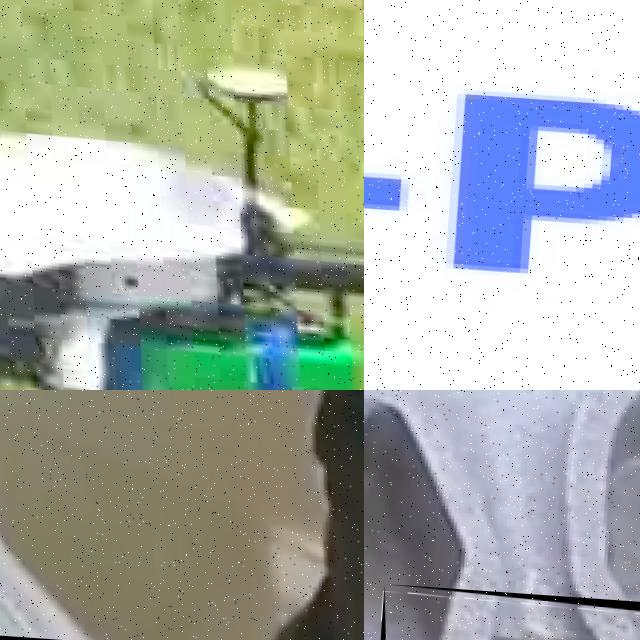drone: (0, 0, 364, 390), (0, 390, 364, 640), (364, 583, 640, 640)
